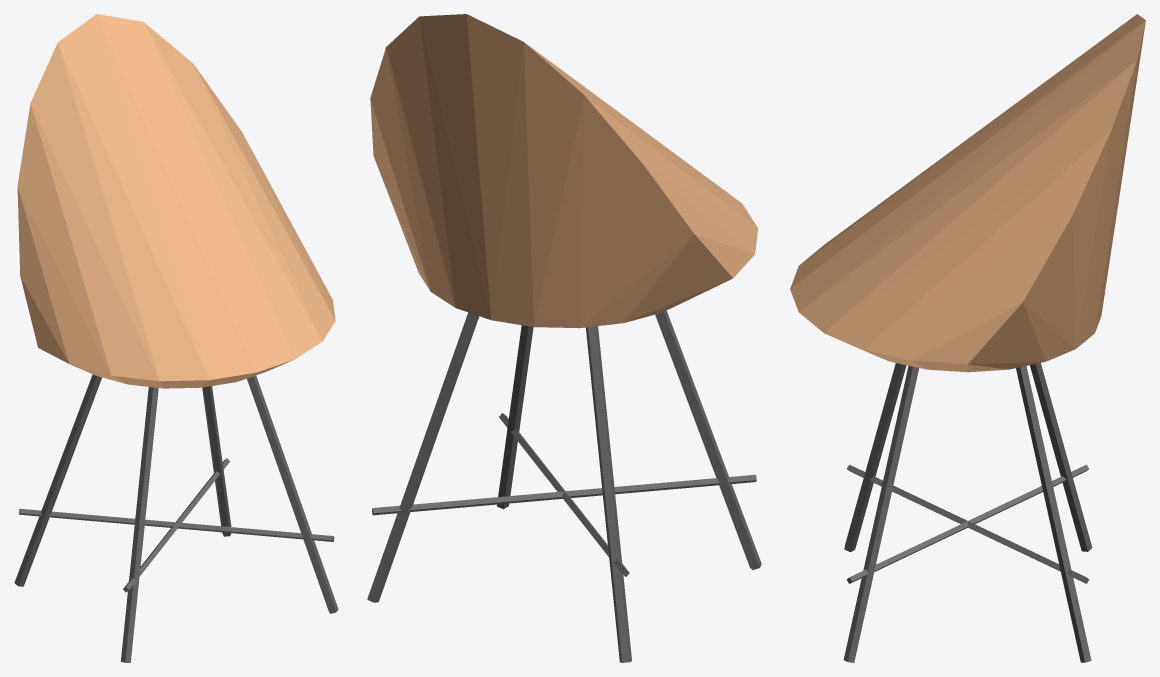
File: shell_chair.glb
3 renders of one model, left to right at view 1: azimuth 30°, elevation 25°; view 2: azimuth 150°, elevation 25°; view 3: azimuth 270°, elevation 25°, orthographic. The views are drawn at different scales.
Visible parts, largest first — view 1: shell_chair_vinyl_o, shell_chair_dark; view 2: shell_chair_vinyl_o, shell_chair_dark; view 3: shell_chair_vinyl_o, shell_chair_dark.
Boxes of the visible parts, left/top/right/bottom form: shell_chair_vinyl_o: left=17, top=14, right=335, bottom=388; shell_chair_dark: left=14, top=374, right=338, bottom=662; shell_chair_vinyl_o: left=370, top=14, right=758, bottom=328; shell_chair_dark: left=367, top=310, right=761, bottom=662; shell_chair_vinyl_o: left=790, top=14, right=1145, bottom=372; shell_chair_dark: left=843, top=363, right=1092, bottom=662.
Bounding box in the file's own units: 0.48 × 0.8725 × 0.48.
